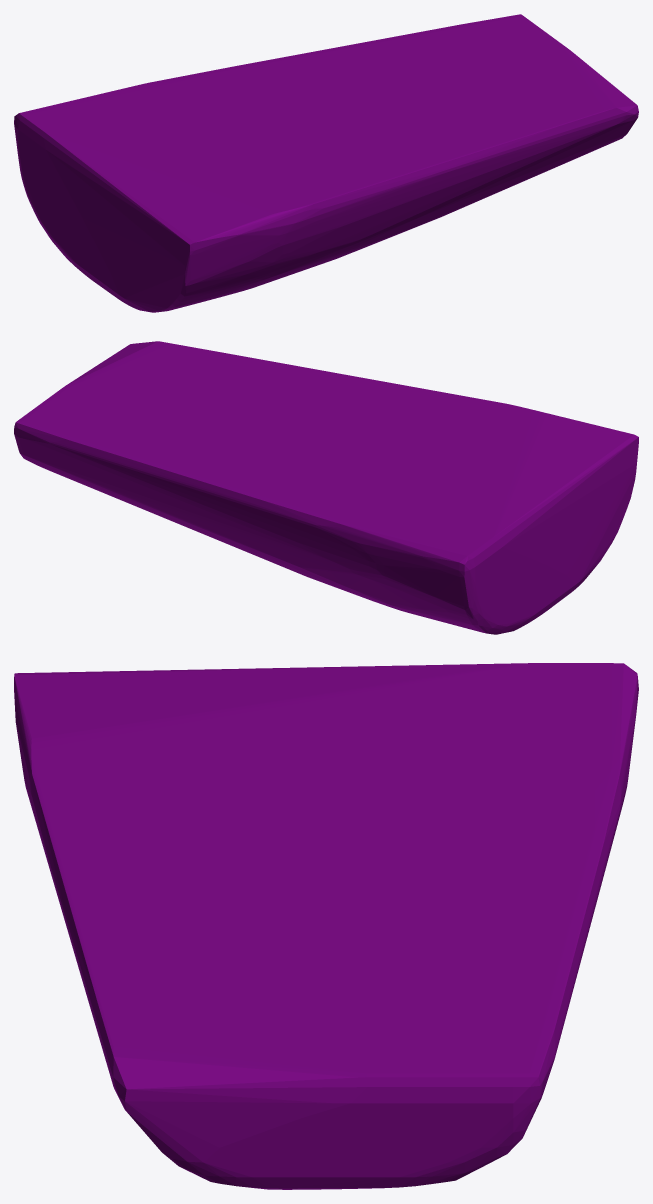
File: right-shin-0_part_11.obj
The picture shows the model from 3 angles, top to bottom: view 1: azimuth 30°, elevation 25°; view 2: azimuth 150°, elevation 25°; view 3: azimuth 270°, elevation 25°; orthographic projection. The views are drawn at different scales.
Bounding box in the file's own units: 0.1463 × 0.0337 × 0.0917.
